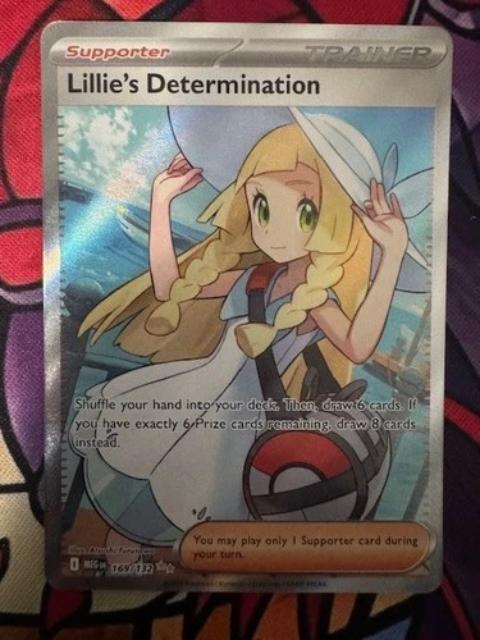Card: (37, 17, 454, 596)
Name: (65, 64, 305, 101)
